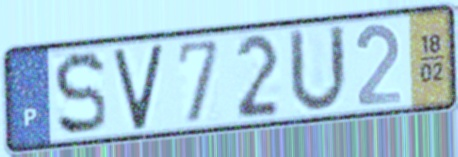2: (232, 31, 286, 123), (352, 21, 407, 109)
7: (175, 36, 223, 126)
S: (51, 48, 109, 139)
U: (286, 22, 351, 117)
V: (110, 40, 166, 134)
